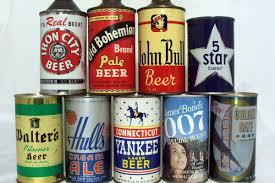Aerosols: (11, 0, 266, 183)
